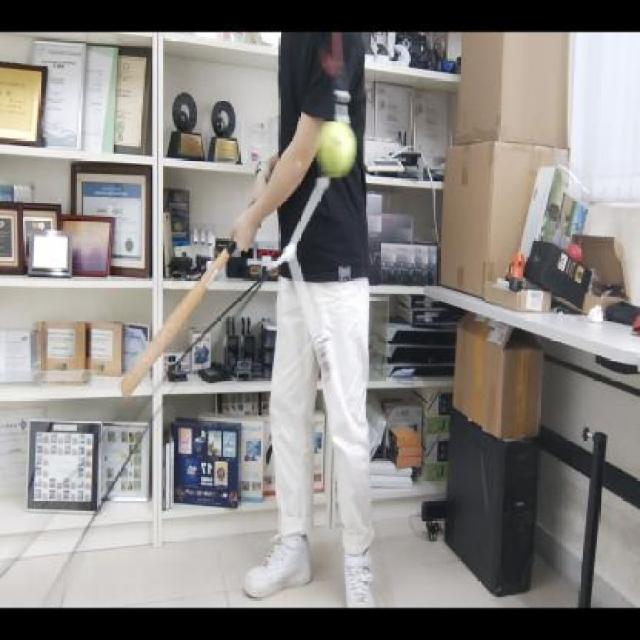baseball: (315, 115, 356, 177)
